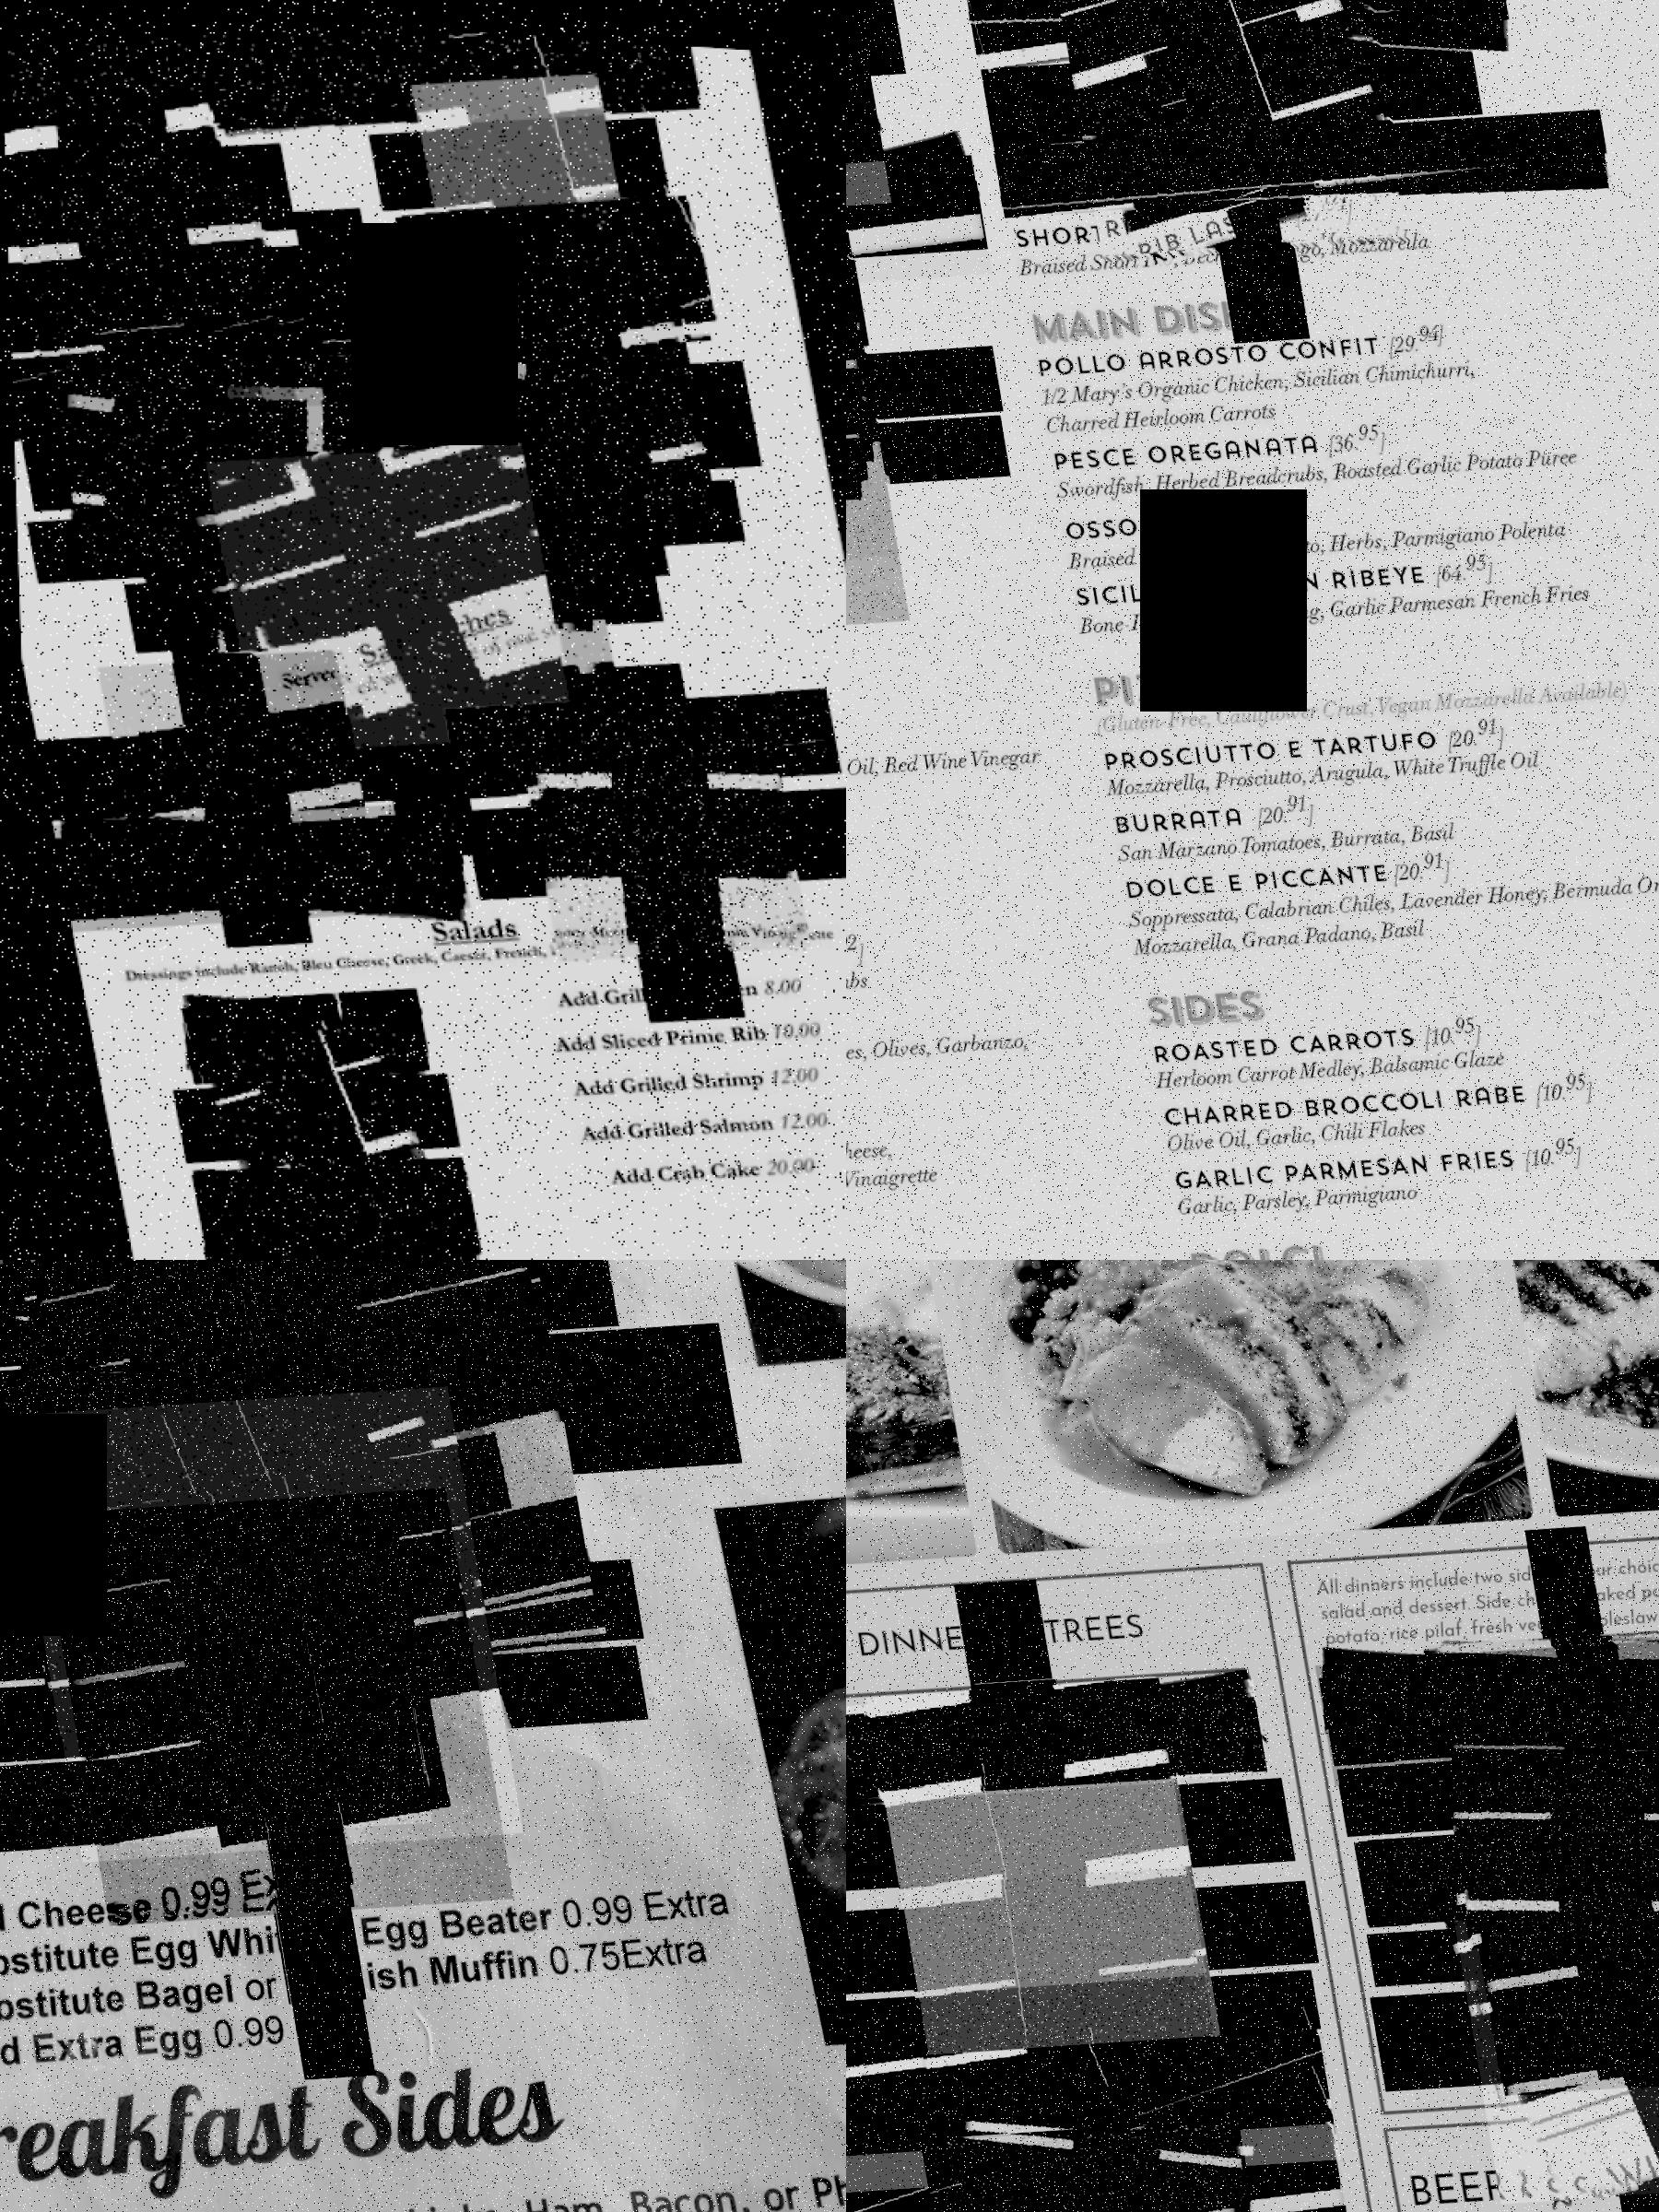Menu-Items: (0, 1348, 516, 1883), (10, 1259, 598, 1716), (31, 1454, 505, 1944), (150, 307, 619, 745), (0, 1324, 403, 1752), (0, 1259, 493, 1578), (0, 0, 701, 197), (202, 421, 580, 775), (878, 1752, 1225, 2113), (859, 1653, 1204, 2008), (988, 56, 1610, 251), (1105, 779, 1659, 995), (889, 1841, 1229, 2193), (847, 1987, 1338, 2212), (1037, 361, 1600, 540), (1046, 0, 1410, 266), (1049, 434, 1610, 603), (1023, 272, 1523, 460), (1063, 500, 1608, 667), (1417, 1592, 1659, 1954), (1439, 1813, 1659, 2210), (847, 1639, 1269, 1834), (512, 698, 807, 974), (1307, 1583, 1659, 1808), (7, 162, 296, 434), (0, 1698, 423, 1883), (1002, 148, 1485, 305), (45, 775, 467, 953), (387, 171, 723, 388), (1087, 667, 1568, 819), (92, 636, 371, 895), (1141, 1022, 1615, 1172), (1453, 1757, 1659, 2099), (444, 287, 716, 543), (847, 2085, 1347, 2212), (444, 658, 840, 810), (1152, 1096, 1586, 1231), (2, 77, 247, 314), (1345, 1759, 1659, 1944), (7, 301, 362, 453), (49, 347, 288, 571), (958, 0, 1511, 96), (1096, 745, 1476, 880), (1133, 974, 1509, 1103), (195, 1010, 423, 1223), (411, 56, 629, 260), (911, 2095, 1283, 2212), (847, 949, 1063, 1146), (183, 1136, 476, 1259), (847, 662, 1049, 840), (169, 970, 427, 1101), (847, 115, 988, 347), (948, 0, 1593, 45), (847, 1062, 958, 1249), (0, 1259, 247, 1334)
